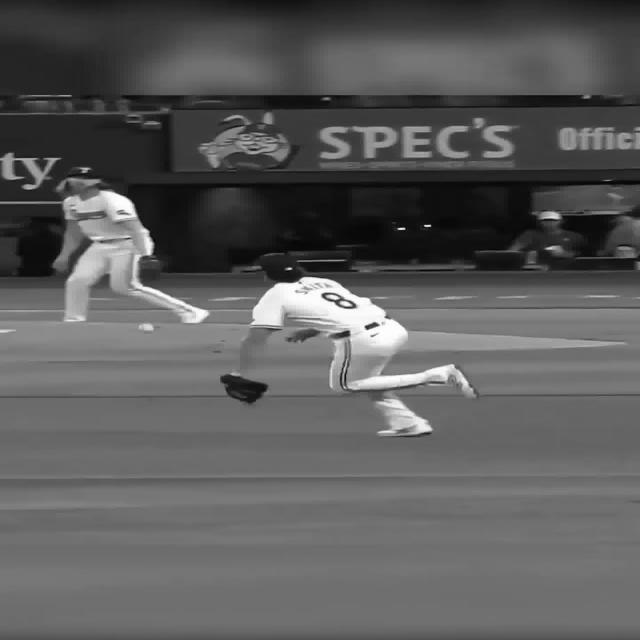baseball: (138, 324, 154, 332)
baseball_glove: (218, 372, 268, 403)
shoe: (442, 364, 478, 398), (377, 419, 432, 437), (179, 307, 209, 323)
